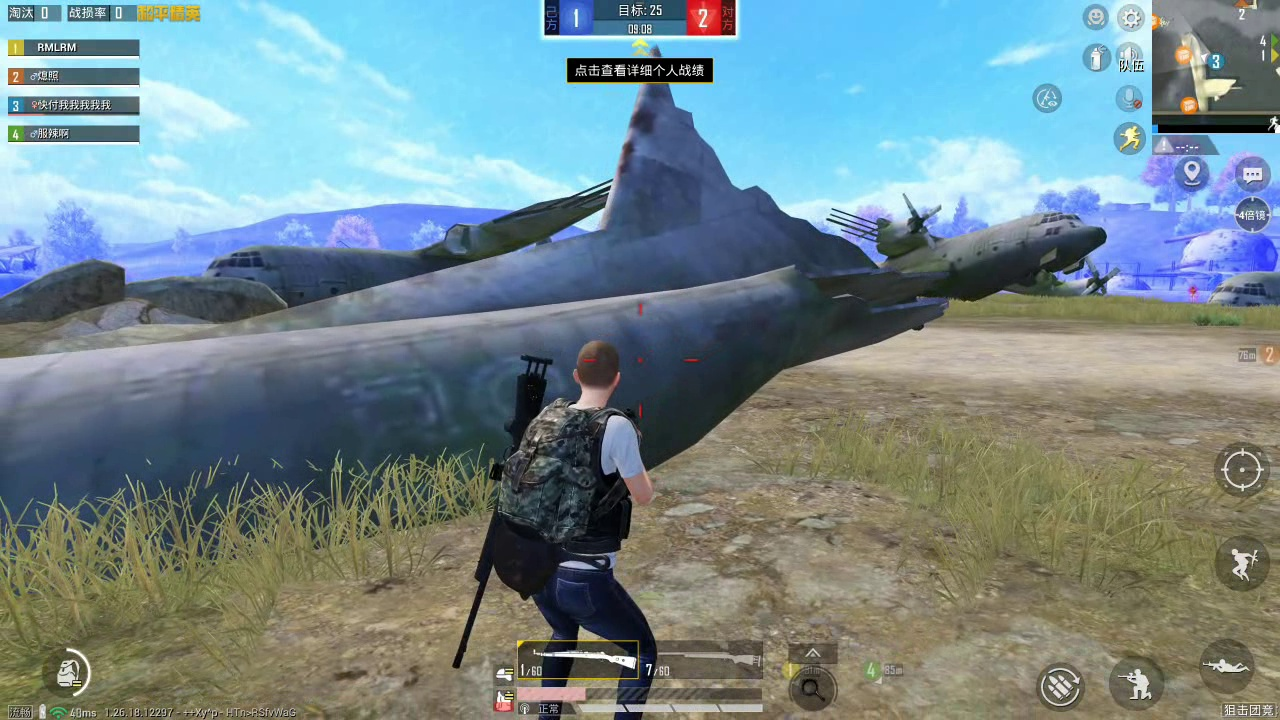enemy: (1186, 285, 1201, 306)
